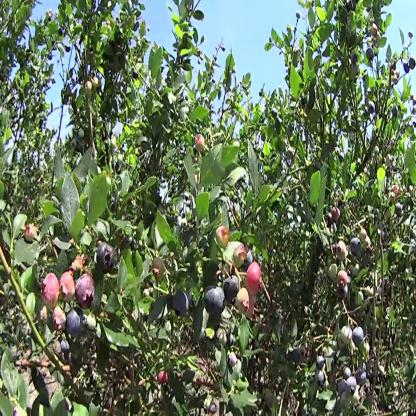intermediate: (247, 259, 266, 298), (75, 273, 97, 306), (42, 273, 61, 308), (58, 273, 77, 306), (52, 308, 71, 339), (230, 242, 248, 274), (359, 226, 377, 256), (213, 223, 231, 250), (335, 239, 352, 265), (194, 131, 206, 153), (338, 268, 350, 290)
mature: (95, 240, 121, 277), (202, 286, 228, 318), (66, 310, 88, 343), (170, 288, 192, 320), (222, 276, 242, 306), (344, 377, 359, 402), (353, 326, 366, 351), (350, 237, 363, 257)
young: (343, 319, 354, 347), (84, 79, 97, 95)
